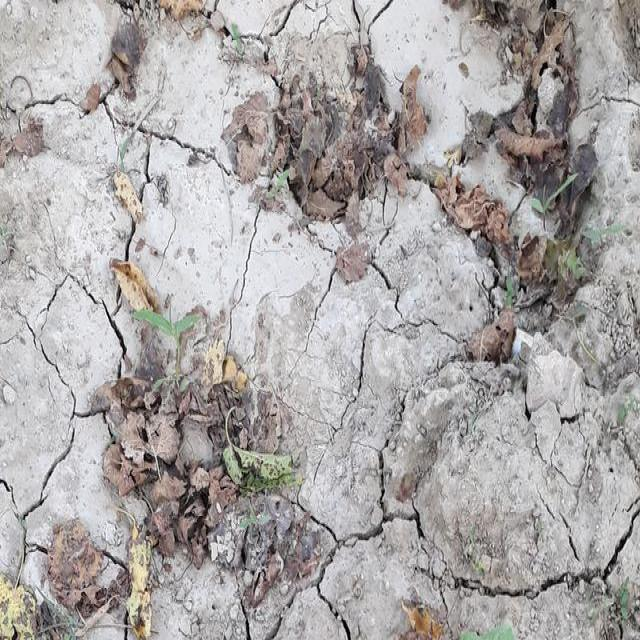weed: (224, 18, 295, 58), (597, 576, 640, 640), (134, 313, 212, 345), (534, 178, 580, 226), (264, 170, 298, 194)
